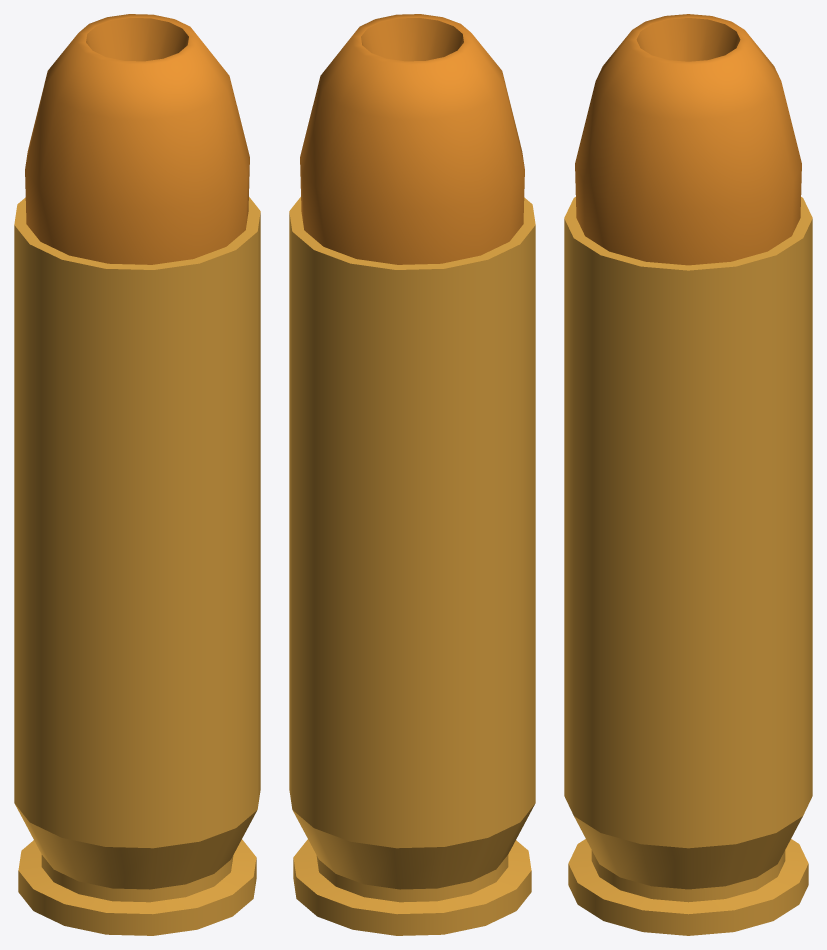
The model's file is ammo4-food.fbx.
3 views of the same model, side by side, from view 1: azimuth 30°, elevation 25°; view 2: azimuth 150°, elevation 25°; view 3: azimuth 270°, elevation 25° (orthographic).
Visible parts, largest first — view 1: ammo4-food; view 2: ammo4-food; view 3: ammo4-food.
Part boxes in pixels (box(x1,y1,x2,y2)): ammo4-food: box(14, 14, 260, 935); ammo4-food: box(289, 14, 535, 935); ammo4-food: box(564, 14, 812, 935).
Bounding box in the file's own units: 0.0141 × 0.0529 × 0.0141.
